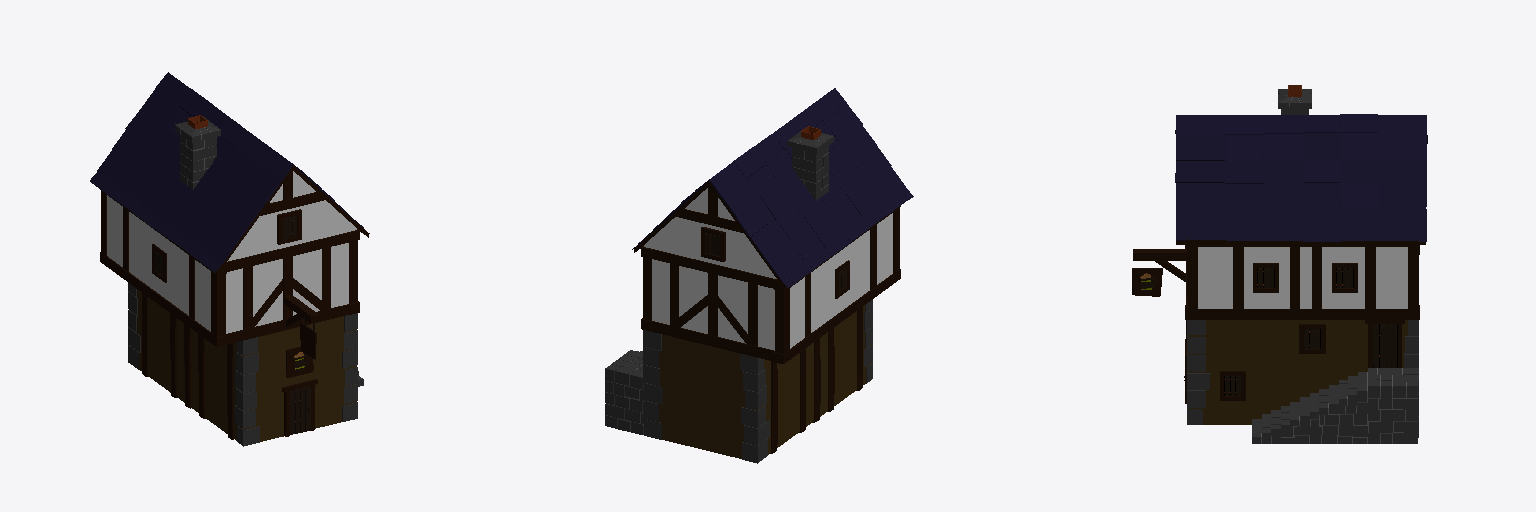
The model's file is CartoonTavern.obj.
The picture shows the model from 3 angles: view 1: azimuth 30°, elevation 25°; view 2: azimuth 150°, elevation 25°; view 3: azimuth 270°, elevation 25°; orthographic projection.
Parts seen in each view (by area): view 1: Tavern_Cube.001; view 2: Tavern_Cube.001; view 3: Tavern_Cube.001.
Boxes of the visible parts, box(x1,y1,x2,y2) form: Tavern_Cube.001: box(90, 72, 369, 446); Tavern_Cube.001: box(605, 88, 913, 463); Tavern_Cube.001: box(1132, 85, 1427, 443).
Size of the model in its own units: 4.17 by 6.1 by 5.71.